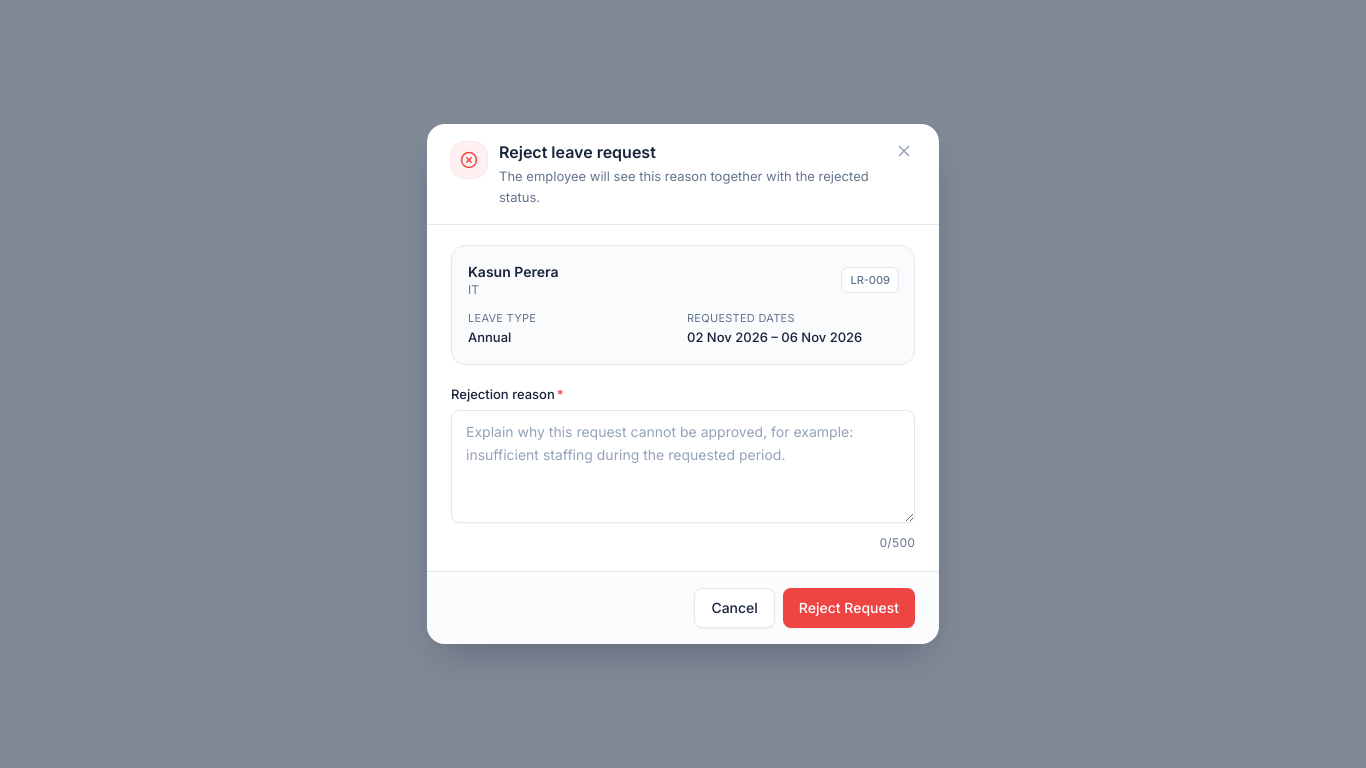
it: RejectLeaveModal › requires a rejection reason before submitting
Click the button "Reject Request".
click(849, 608)  # box [783,588,915,628]
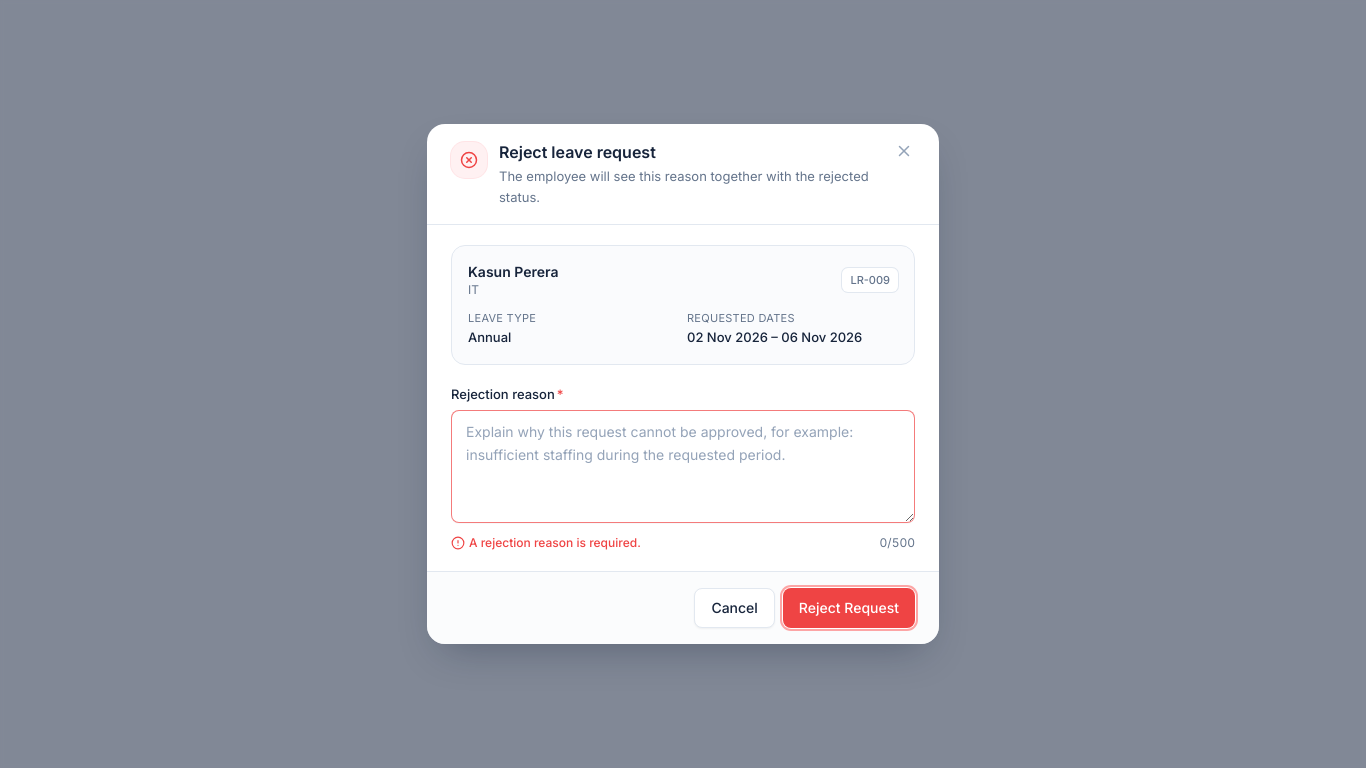
Now the text "A rejection reason is required." is shown, box [451,535,641,551]
